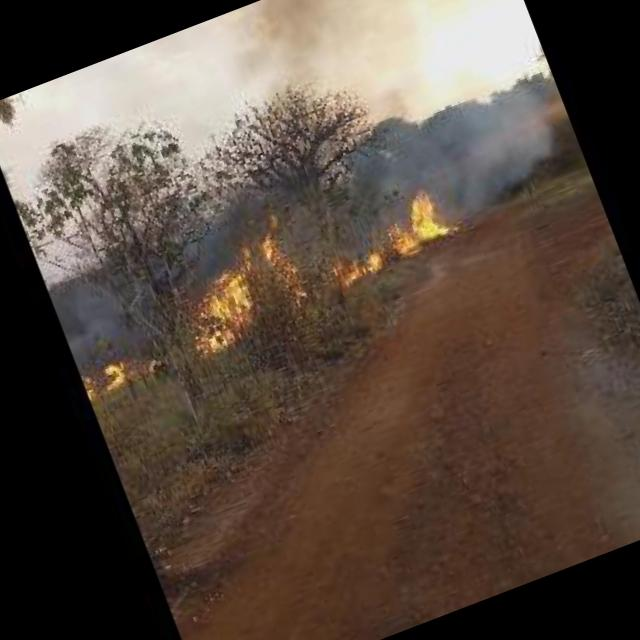fire: (169, 226, 314, 356), (381, 188, 452, 258), (326, 244, 385, 288), (100, 358, 136, 392)
smoke: (381, 56, 585, 233), (217, 0, 399, 114)
